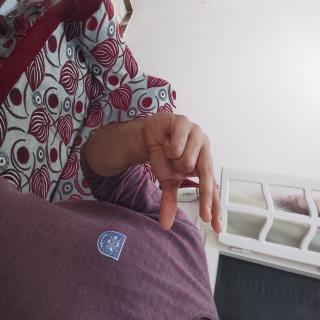DHELL: (82, 124, 183, 250)
